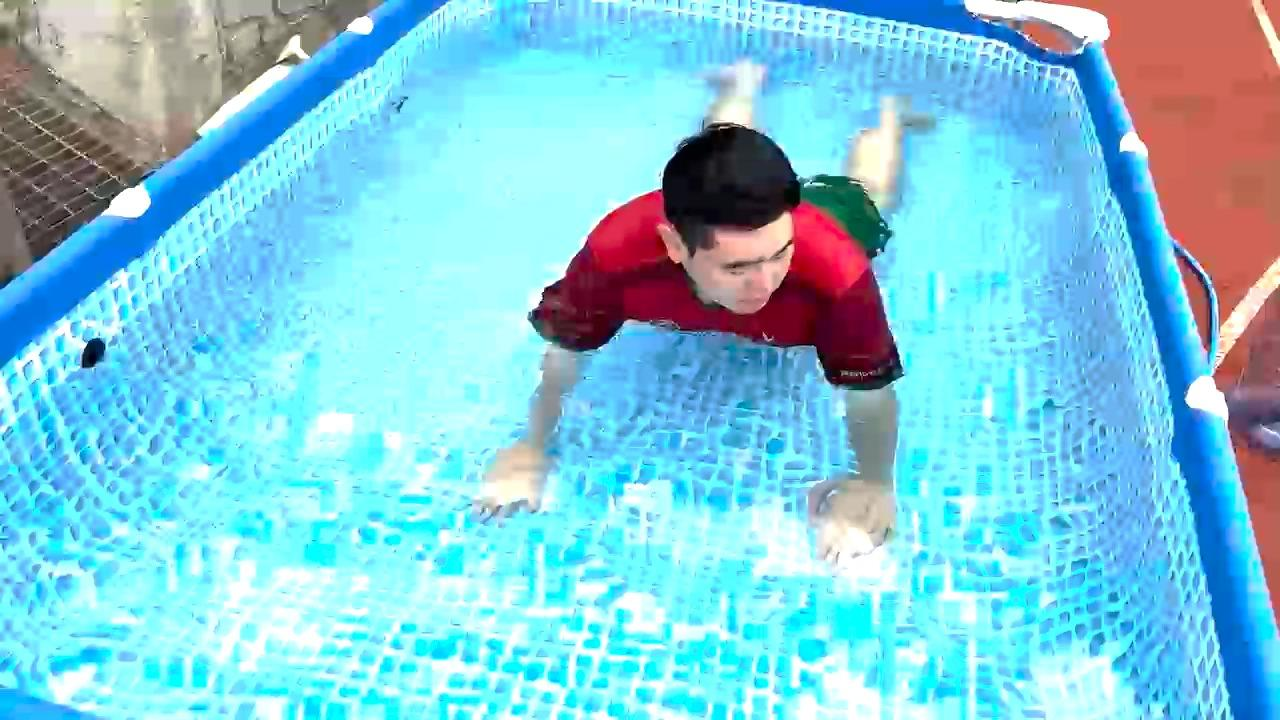Swimming: (455, 33, 968, 548)
